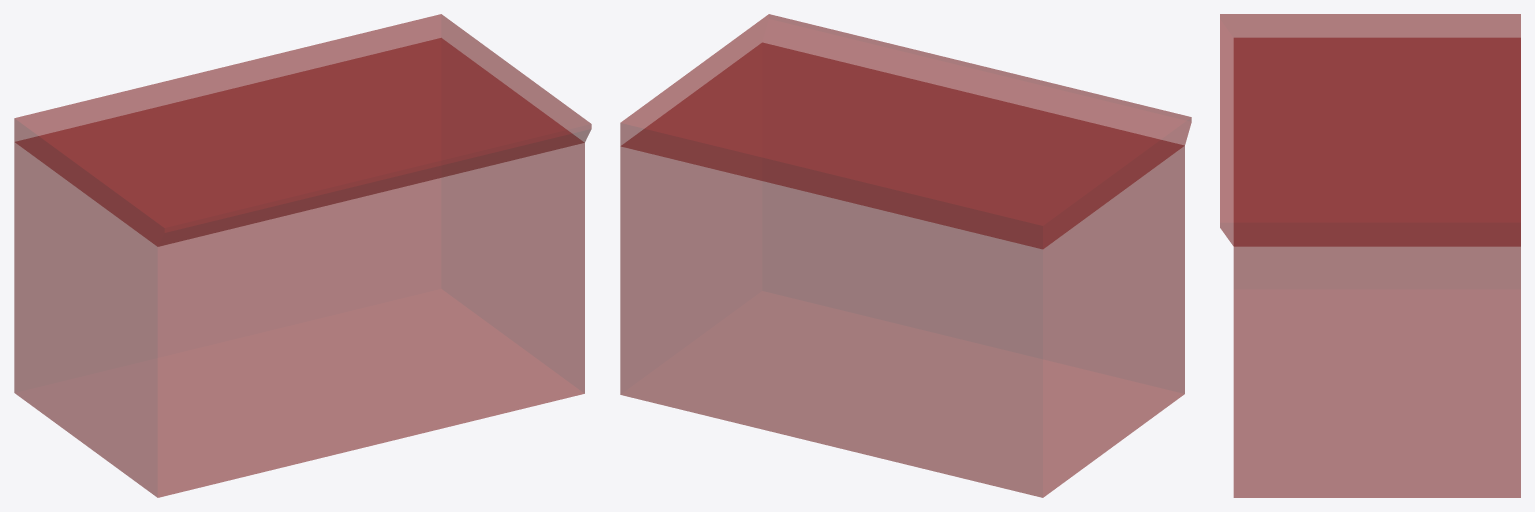
Rendered from SM_Bld_Grandstand_VIP_Box_01_Collision.fbx.
3 views of the same model, side by side, from view 1: azimuth 30°, elevation 25°; view 2: azimuth 150°, elevation 25°; view 3: azimuth 270°, elevation 25° (orthographic).
Parts seen in each view (by area): view 1: SM_Bld_Grandstand_VIP_Box_01_Collision; view 2: SM_Bld_Grandstand_VIP_Box_01_Collision; view 3: SM_Bld_Grandstand_VIP_Box_01_Collision.
Part boxes in pixels (x1=…): SM_Bld_Grandstand_VIP_Box_01_Collision: x1=14, y1=14, x2=591, y2=497; SM_Bld_Grandstand_VIP_Box_01_Collision: x1=620, y1=14, x2=1191, y2=497; SM_Bld_Grandstand_VIP_Box_01_Collision: x1=1220, y1=14, x2=1520, y2=497.
Size of the model in its own units: 1250 by 768 by 762.
